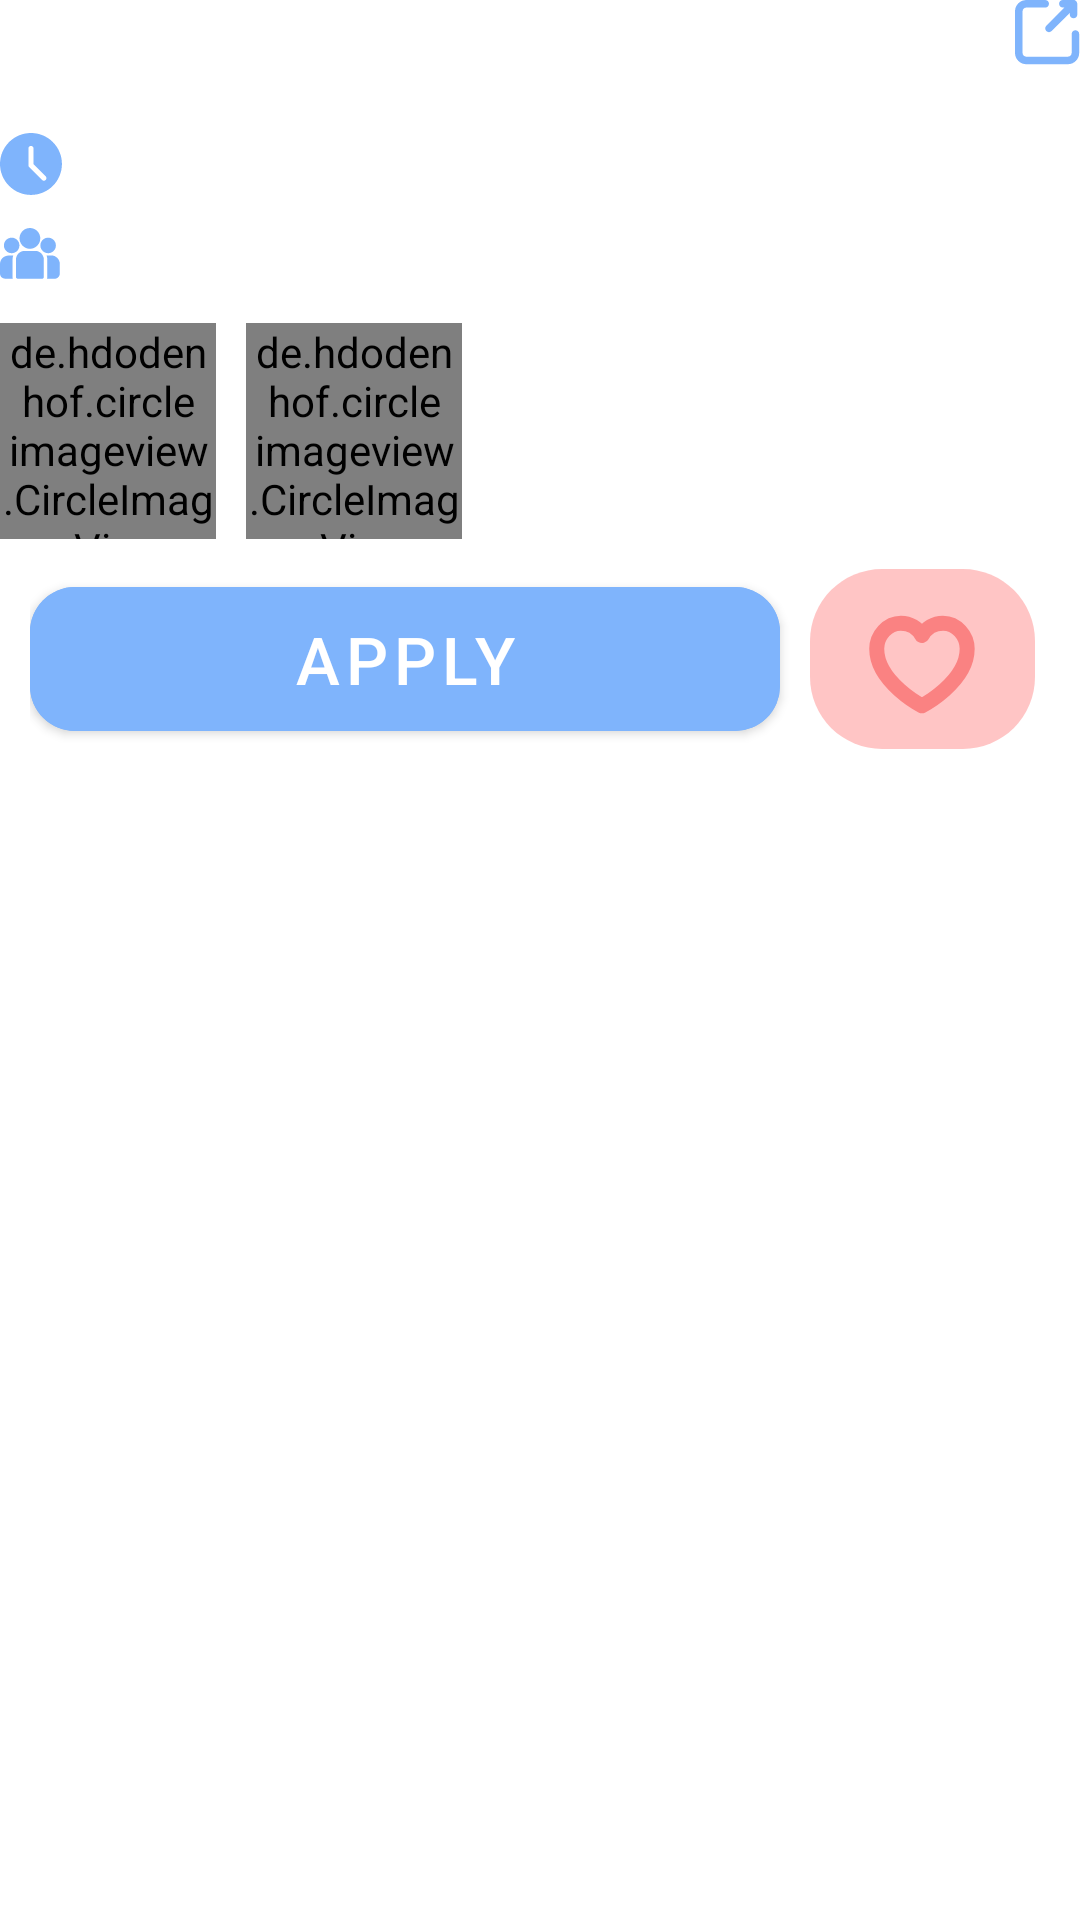

Screen size 1080×1920. Icon name, then its box in pixels as rect(x1, y1, x2, y2):
clock: rect(0, 133, 62, 195)
collect: rect(810, 569, 1035, 749)
share: rect(1015, 0, 1080, 65)
